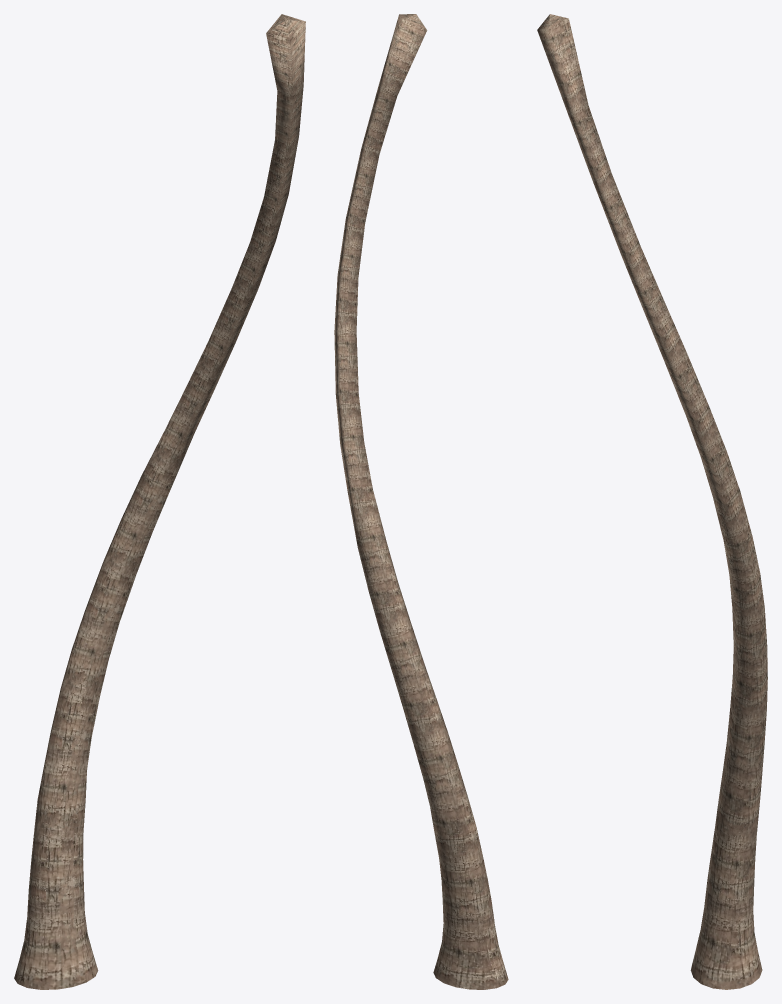
The model's file is m_palm_p2_10_trunk_0_lev2.glb.
3 renders of one model, left to right at view 1: azimuth 30°, elevation 25°; view 2: azimuth 150°, elevation 25°; view 3: azimuth 270°, elevation 25°, orthographic. The views are drawn at different scales.
Parts seen in each view (by area): view 1: m_palm_p2_10_trunk_0_lev2; view 2: m_palm_p2_10_trunk_0_lev2; view 3: m_palm_p2_10_trunk_0_lev2.
Part boxes in pixels (x1,y1,x2,y2): m_palm_p2_10_trunk_0_lev2: (14, 14, 305, 989); m_palm_p2_10_trunk_0_lev2: (334, 14, 508, 989); m_palm_p2_10_trunk_0_lev2: (537, 14, 767, 989).
Bounding box in the file's own units: 1.3 × 5.4 × 1.09.
1 material, 1 textured.
